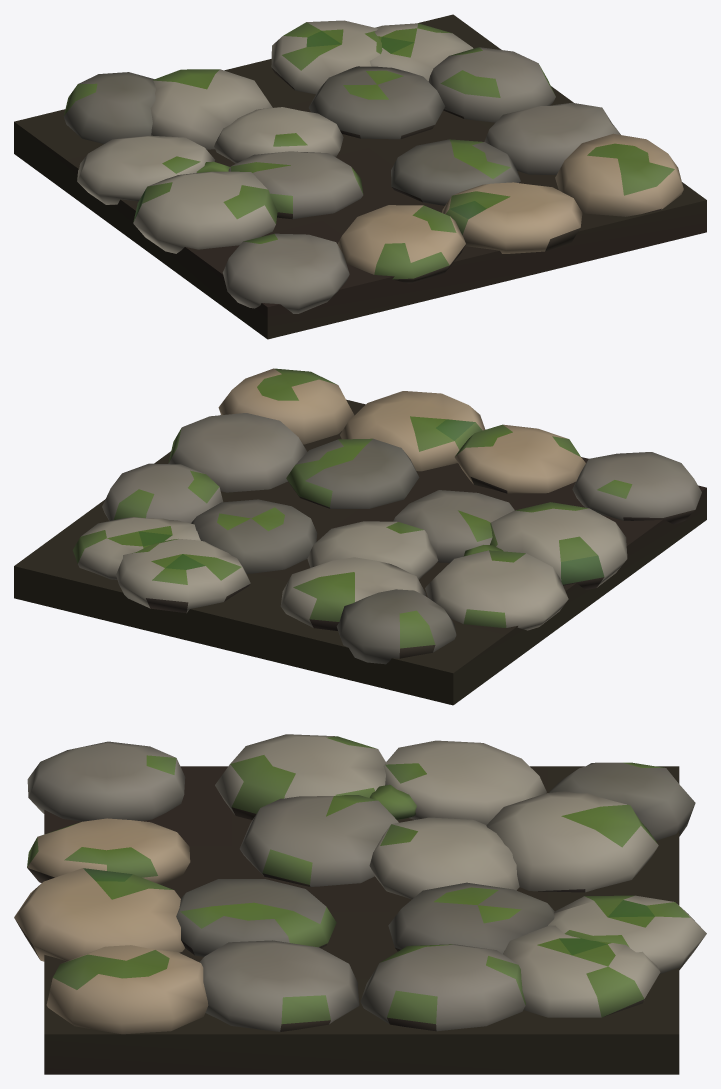
Rendered from kit_floor1.glb.
3 views of the same model, one above another, from view 1: azimuth 30°, elevation 25°; view 2: azimuth 150°, elevation 25°; view 3: azimuth 270°, elevation 25° (orthographic). The views are drawn at different scales.
Visible parts, largest first — view 1: kit_floor1; view 2: kit_floor1; view 3: kit_floor1.
Boxes of the visible parts, x1=… form: kit_floor1: x1=14, y1=14, x2=706, y2=339; kit_floor1: x1=14, y1=368, x2=706, y2=705; kit_floor1: x1=14, y1=734, x2=706, y2=1074.
Size of the model in its own units: 1.04 by 0.1407 by 1.09.
